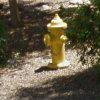Hydrant: (35, 9, 81, 85)
